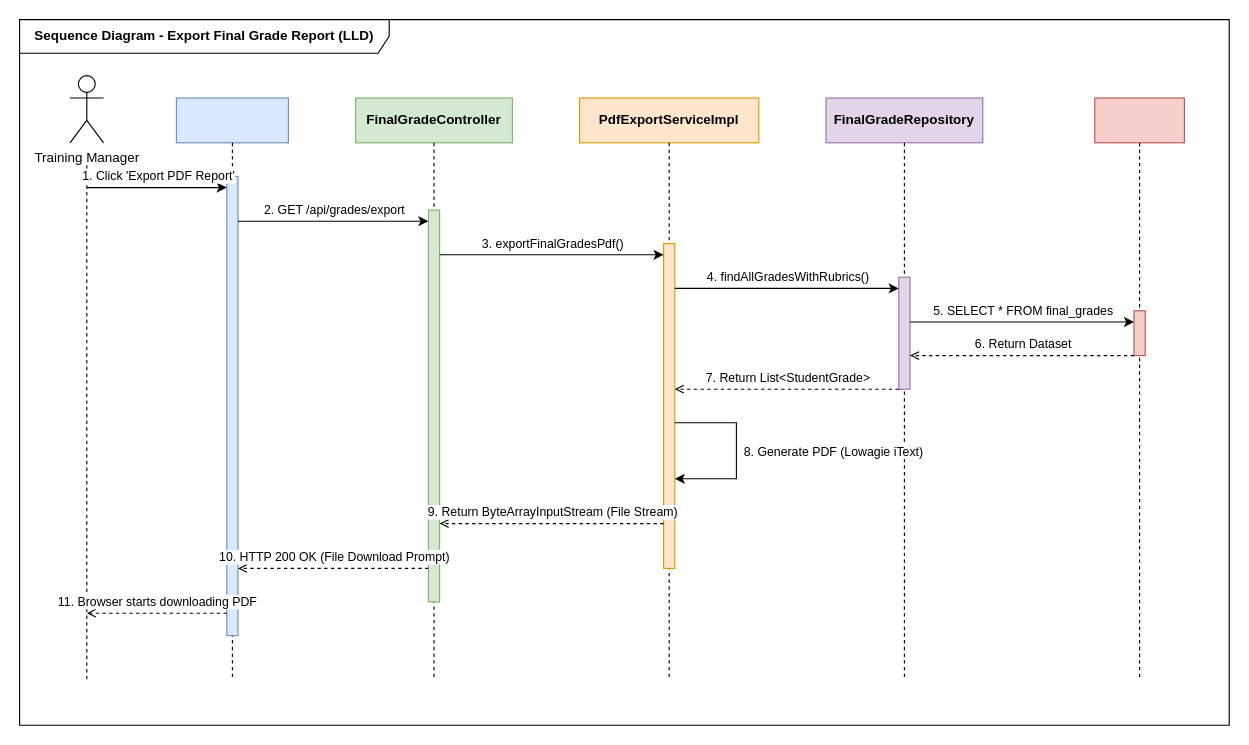
Image size: 1249x745. Some labels were removed from this diagram. The shapes that lost their labels are listed below. From the top down, each one's centre as x and y in pixels, then its label:
At (231,120): "Frontend UI".
At (1139,120): "Database".
